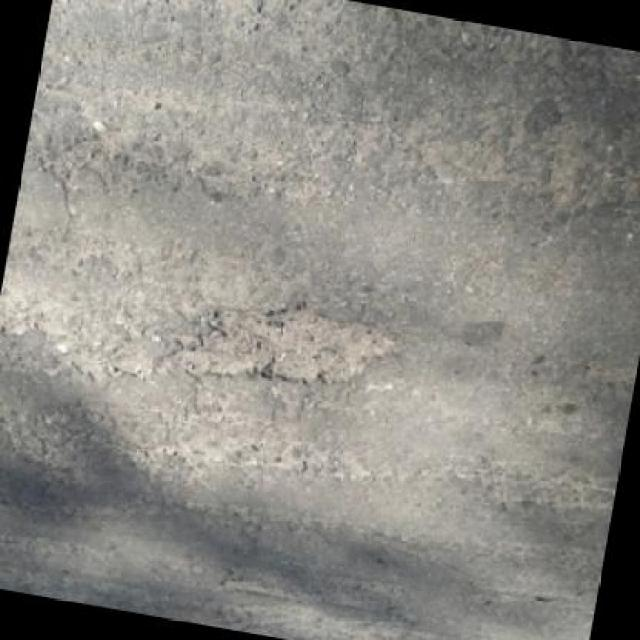pothole1: (162, 280, 400, 412)
